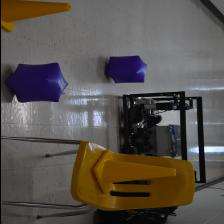cone: (92, 149, 176, 194), (0, 0, 71, 33)
cube: (4, 62, 68, 103), (105, 56, 147, 84)
